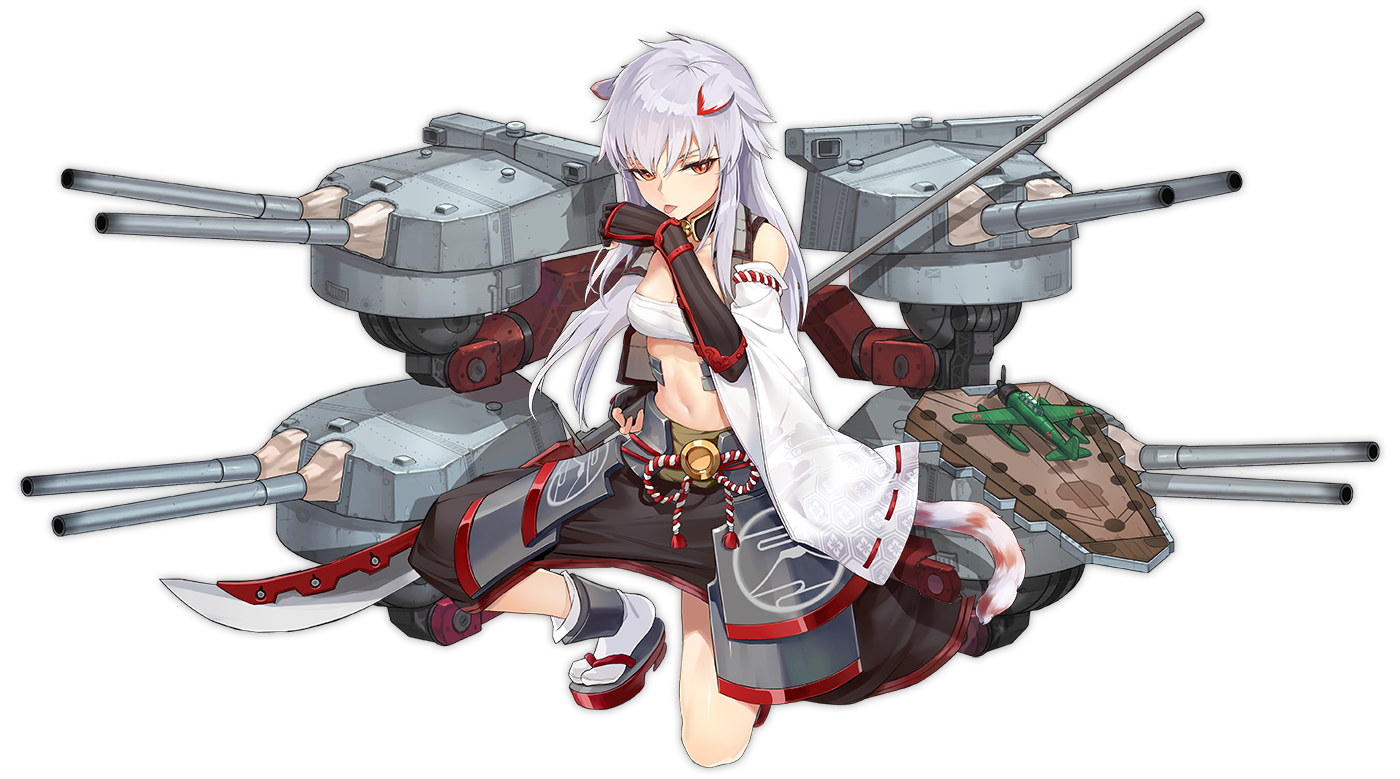person: (438, 33, 869, 779)
